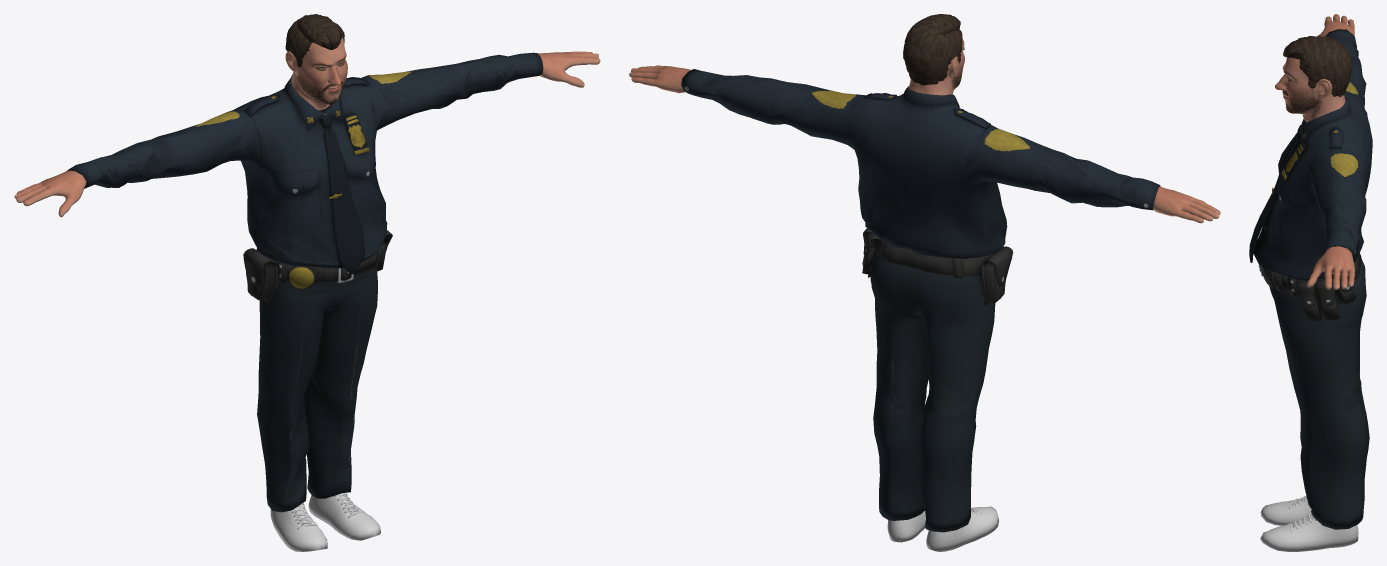
Rendered from poliskos.obj.
3 renders of one model, left to right at view 1: azimuth 30°, elevation 25°; view 2: azimuth 150°, elevation 25°; view 3: azimuth 270°, elevation 25°, orthographic. The views are drawn at different scales.
Parts seen in each view (by area): view 1: Tops, Bottoms, Body, Shoes, Hair; view 2: Tops, Bottoms, Body, Hair, Shoes; view 3: Bottoms, Tops, Body, Shoes, Hair.
Part boxes in pixels (x1=…): Tops: x1=67, y1=52, x2=543, y2=274; Bottoms: x1=243, y1=230, x2=392, y2=512; Body: x1=14, y1=37, x2=600, y2=217; Shoes: x1=270, y1=493, x2=380, y2=551; Hair: x1=285, y1=14, x2=344, y2=66; Tops: x1=681, y1=69, x2=1160, y2=258; Bottoms: x1=862, y1=228, x2=1013, y2=532; Body: x1=629, y1=29, x2=1220, y2=223; Hair: x1=903, y1=14, x2=962, y2=85; Shoes: x1=887, y1=506, x2=998, y2=551; Bottoms: x1=1258, y1=253, x2=1369, y2=529; Tops: x1=1249, y1=29, x2=1372, y2=280; Body: x1=1275, y1=14, x2=1354, y2=289; Shoes: x1=1260, y1=496, x2=1358, y2=551; Hair: x1=1283, y1=36, x2=1352, y2=97.
Size of the model in its own units: 213 by 178 by 40.43.
